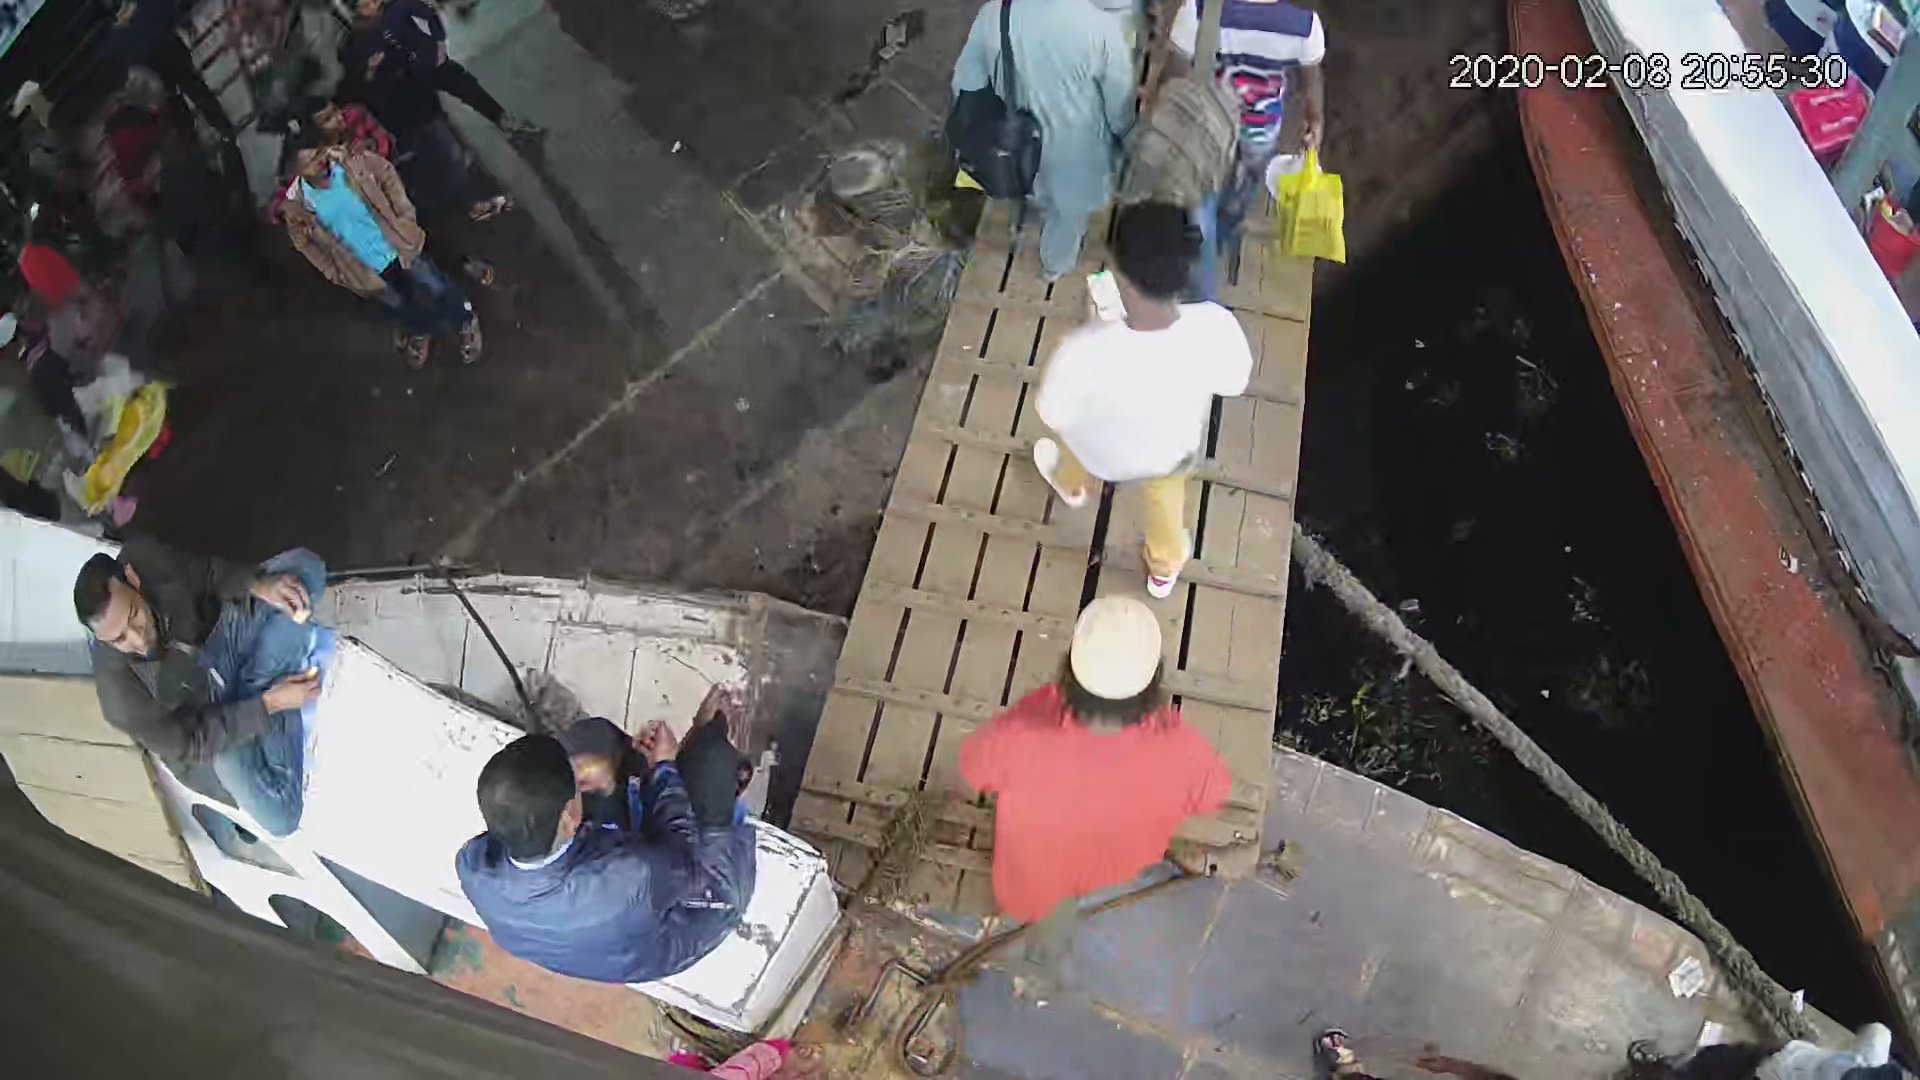person: (958, 590, 1236, 929), (450, 692, 761, 989), (1026, 202, 1241, 601), (67, 526, 325, 847), (1146, 1, 1330, 307), (277, 132, 497, 379), (947, 1, 1121, 275)
